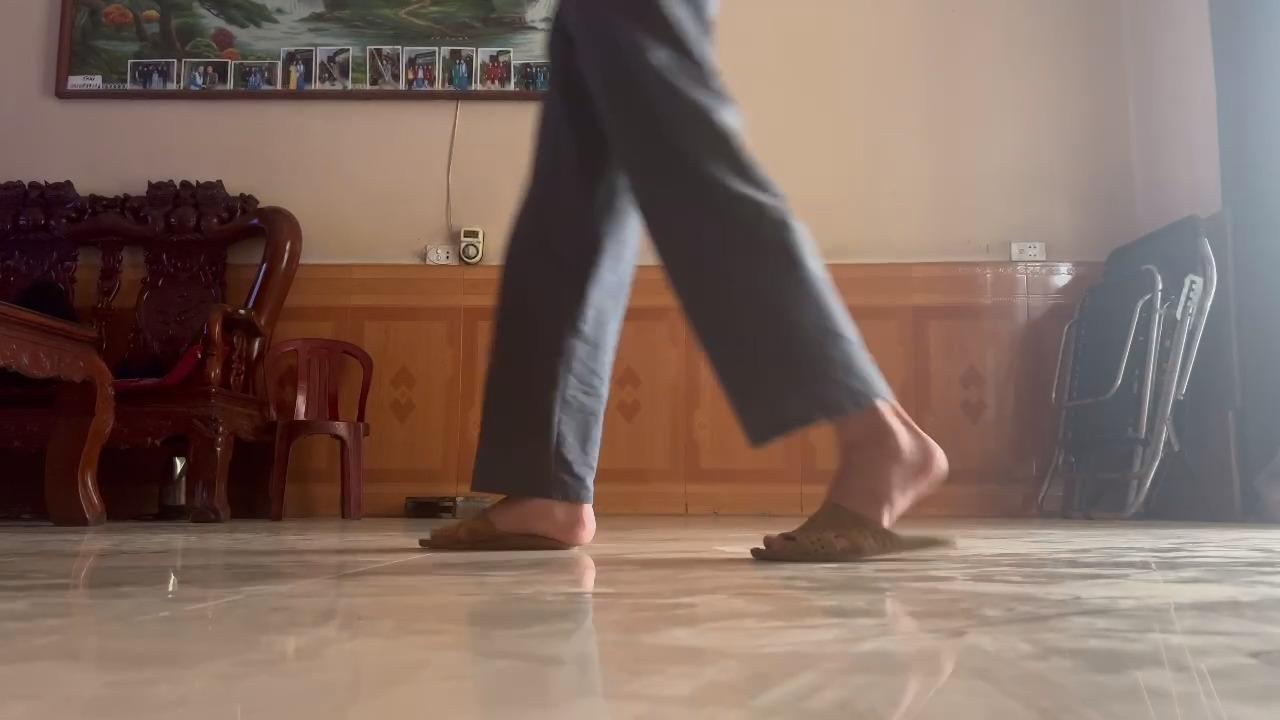no-boot: (734, 416, 963, 567), (413, 493, 605, 560)
